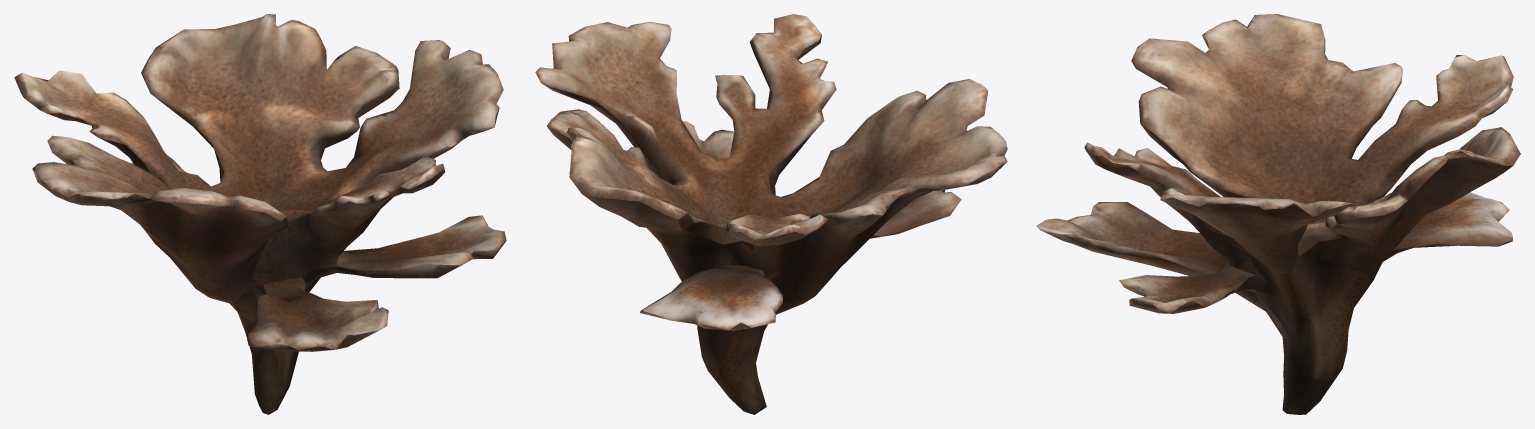
The model's file is Coral08.fbx.
3 renders of one model, left to right at view 1: azimuth 30°, elevation 25°; view 2: azimuth 150°, elevation 25°; view 3: azimuth 270°, elevation 25°, orthographic. The views are drawn at different scales.
Visible parts, largest first — view 1: Coral5_1; view 2: Coral5_1; view 3: Coral5_1.
Part boxes in pixels (x1,y1,x2,y2): Coral5_1: (14,14,506,414); Coral5_1: (535,14,1007,414); Coral5_1: (1036,14,1520,414).
Bounding box in the file's own units: 97.45 × 66.3 × 94.18.
